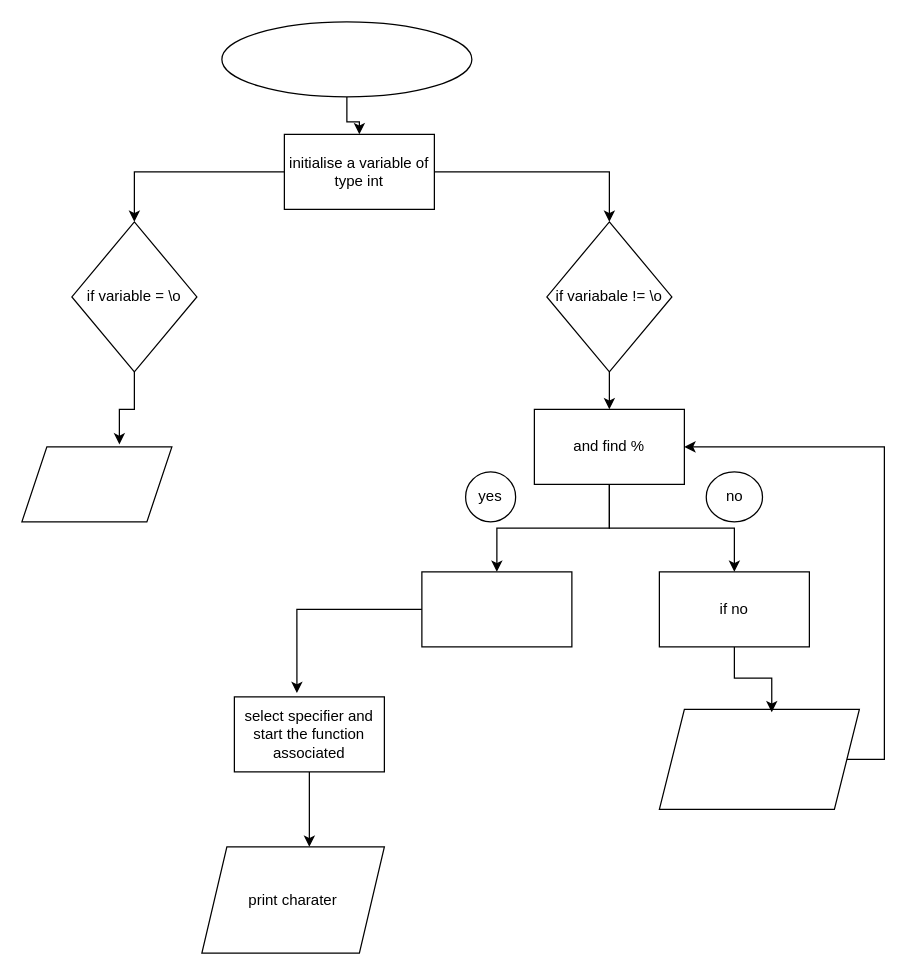
This 916x975 diagram has some shape labels left out. Here are the shapes that lost their labels. From the top down, the centre of each, then its label:
At (346,59): "int _printf(const char *format ...)".
At (96,484): "end".
At (496,609): "if read a specifier".
At (758,758): "print % print next character".
